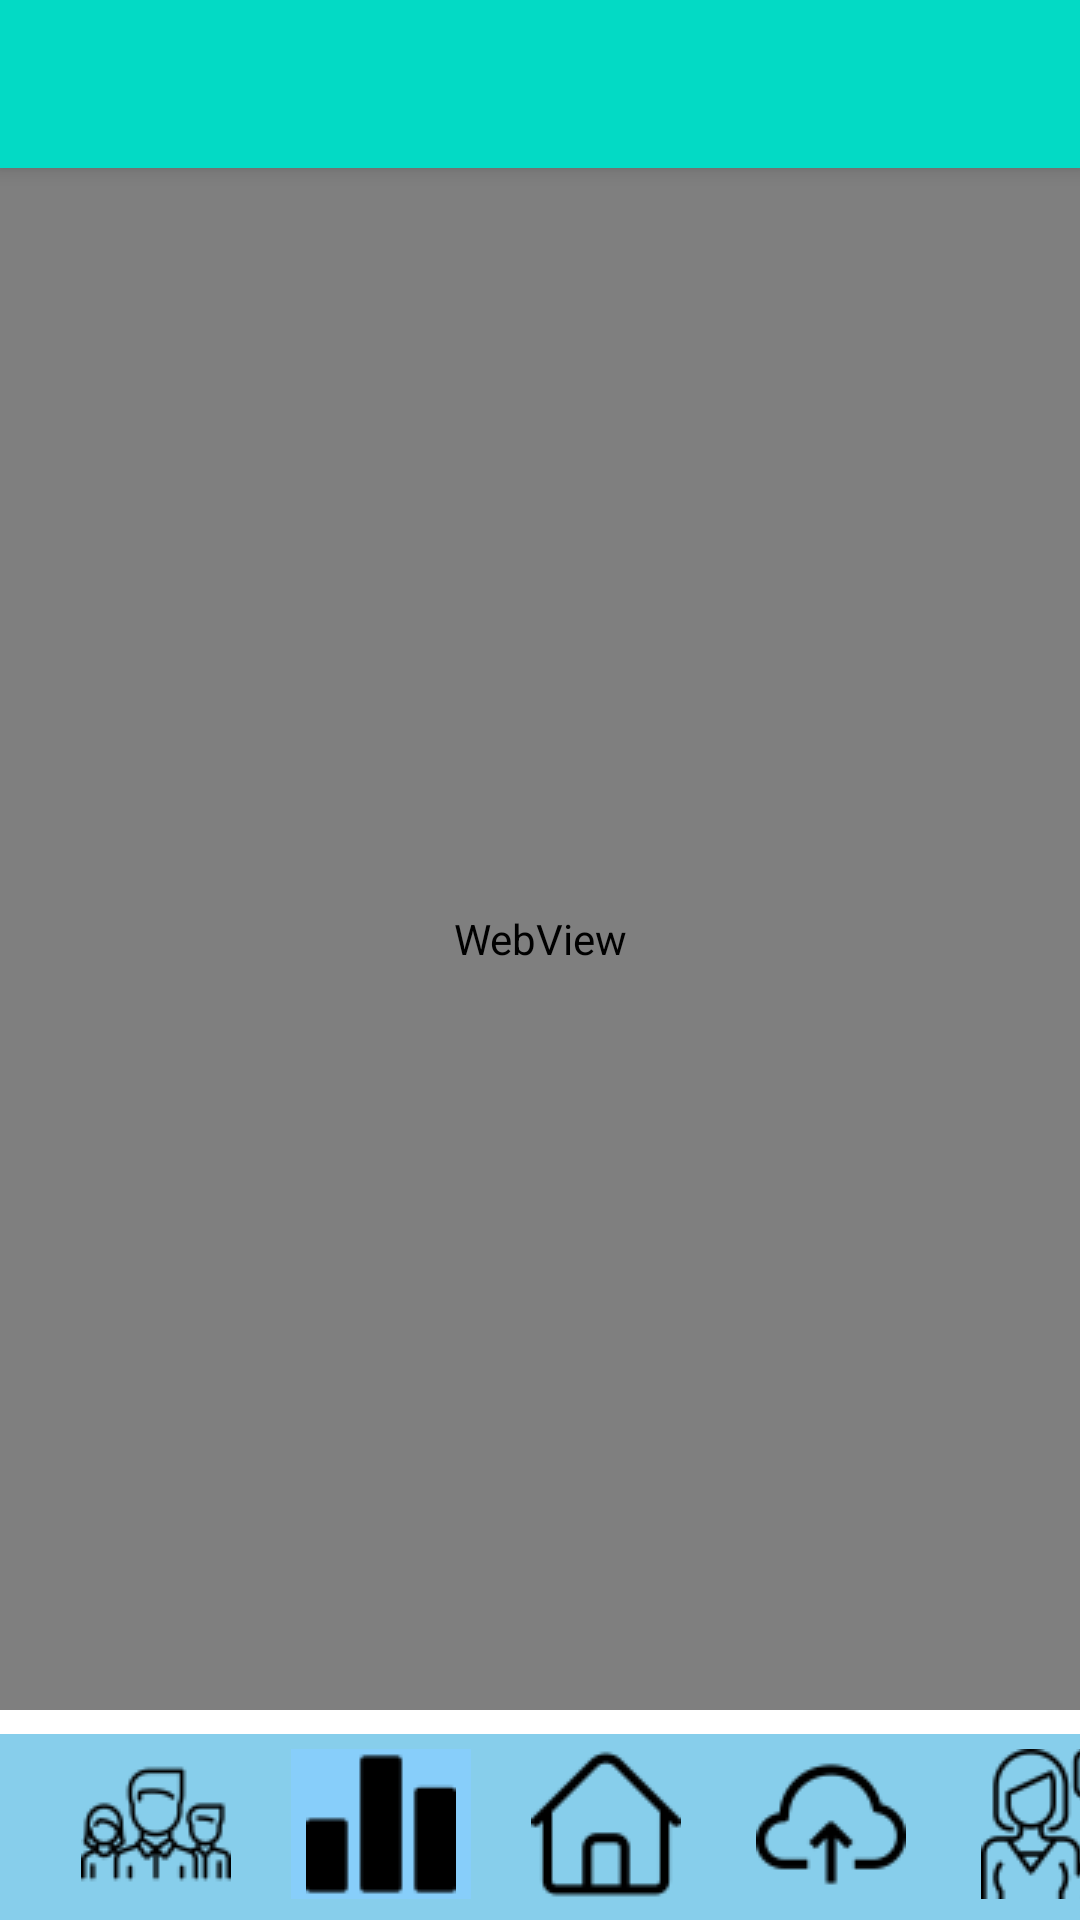

Icon bounding boxes for this 1080x1920 phone screenshot, format [x1,y1,x2,y2]:
housez: [531,1751,681,1897]
statisticalz: [306,1754,456,1894]
teamz: [81,1766,231,1881]
uploadz: [756,1763,906,1885]
